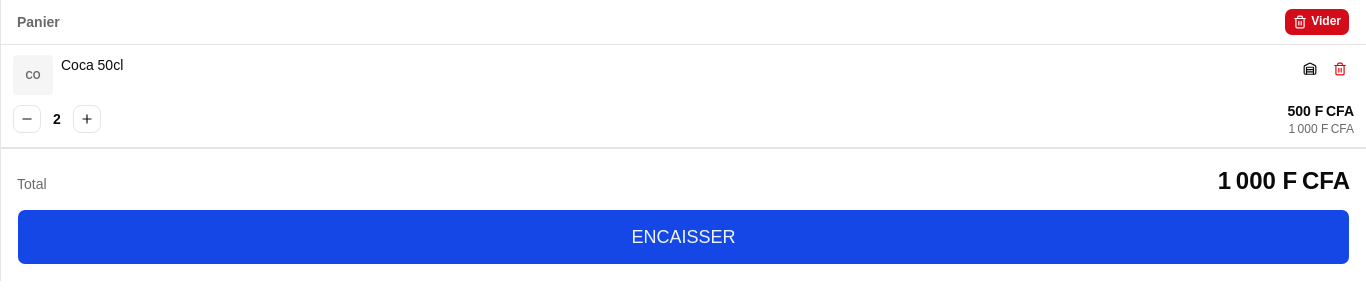
Panier › steppers désactivés pendant la saisie clavier de la quantité
Click the button named "Saisir la quantité de Coca 50cl": point(57, 119) [45,109,69,129]
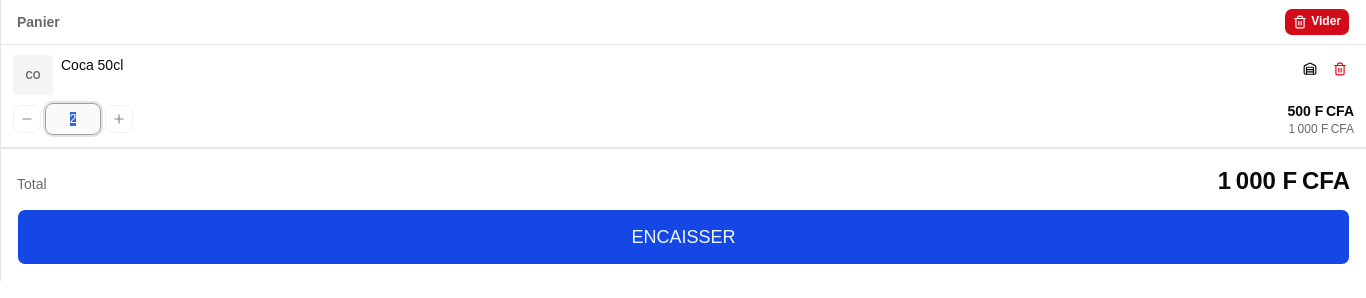
expect the button named "Diminuer la quantité de Coca 50cl" is disabled: met, box [13,105,41,133]
expect the button named "Augmenter la quantité de Coca 50cl" is disabled: met, box [105,105,133,133]
